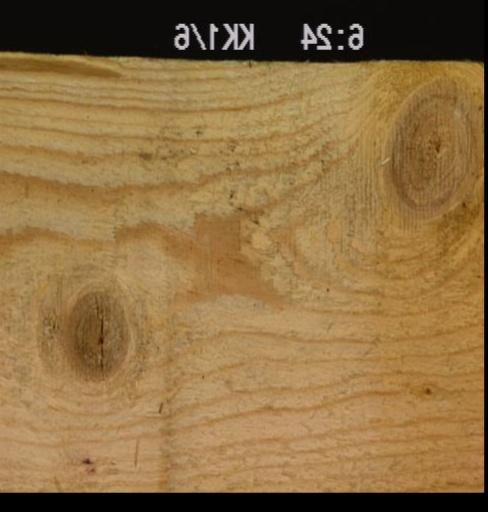small_knot: (419, 381, 435, 398)
sound_knot: (357, 58, 482, 230), (58, 281, 135, 387)
